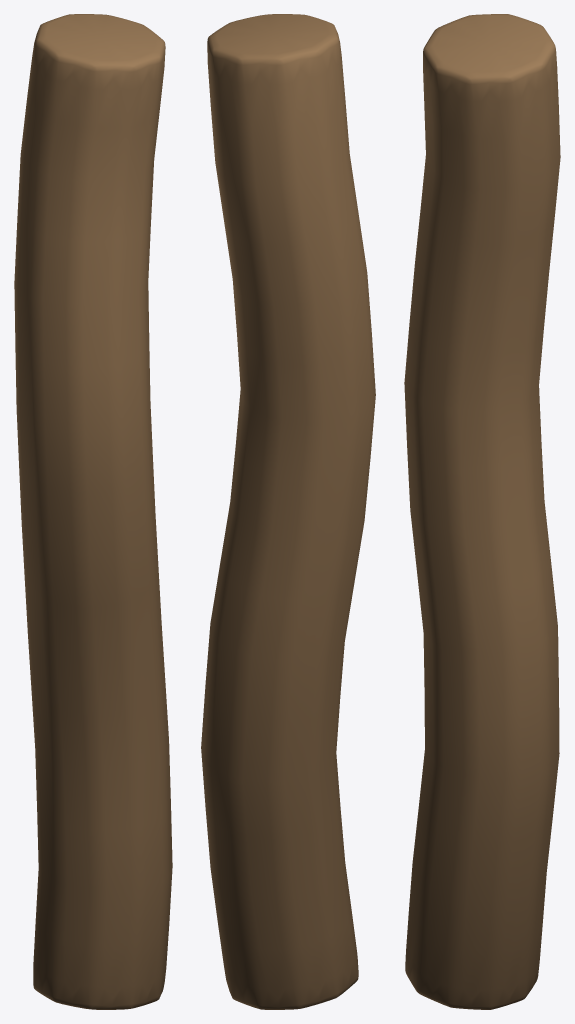
File: dock_pile.glb
3 renders of one model, left to right at view 1: azimuth 30°, elevation 25°; view 2: azimuth 150°, elevation 25°; view 3: azimuth 270°, elevation 25°, orthographic.
Parts seen in each view (by area): view 1: Dock_Pile_Pile; view 2: Dock_Pile_Pile; view 3: Dock_Pile_Pile.
Part boxes in pixels (box(x1,y1,x2,y2)): Dock_Pile_Pile: box(14, 14, 172, 1009); Dock_Pile_Pile: box(201, 14, 375, 1009); Dock_Pile_Pile: box(404, 14, 560, 1009).
Size of the model in its own units: 0.2858 by 1.82 by 0.2705.
